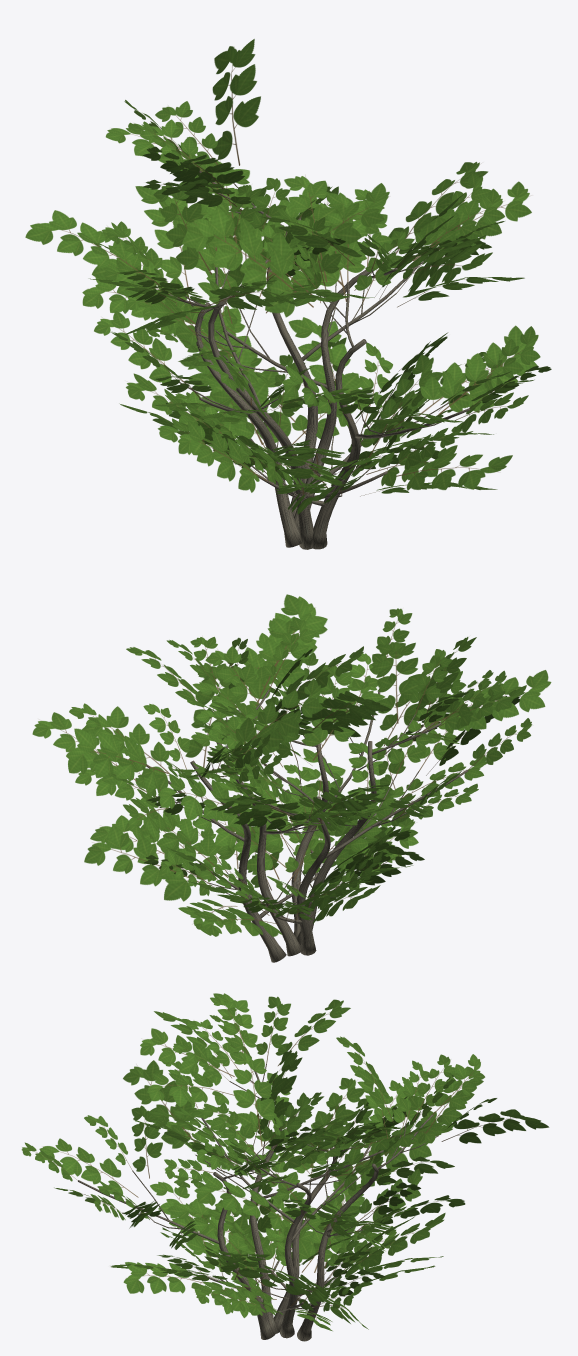
File: bramble.glb
The picture shows the model from 3 angles, top to bottom: view 1: azimuth 30°, elevation 25°; view 2: azimuth 150°, elevation 25°; view 3: azimuth 270°, elevation 25°; orthographic projection. The views are drawn at different scales.
Parts seen in each view (by area): view 1: SM_Bramble; view 2: SM_Bramble; view 3: SM_Bramble.
Boxes of the visible parts, x1,y1,x2,y2 form: SM_Bramble: (25, 39, 551, 549); SM_Bramble: (32, 594, 551, 962); SM_Bramble: (21, 993, 549, 1341).
Size of the model in its own units: 2.1 by 1.5 by 2.57.
Materials: 1 (1 with a texture image).
